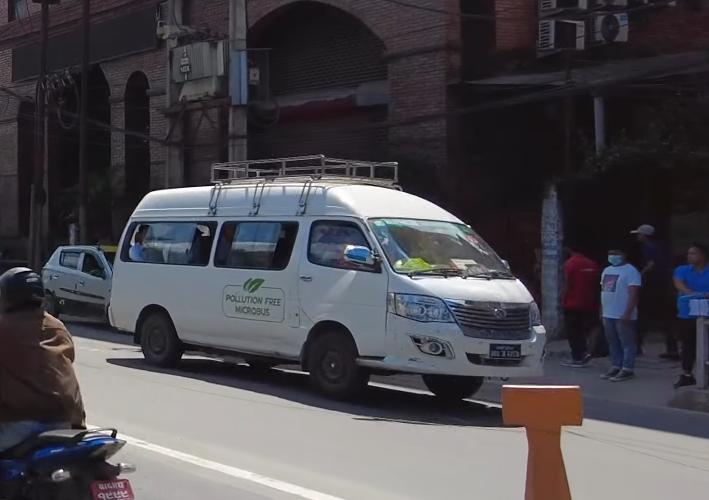bike: (4, 413, 144, 500)
micro_bus: (102, 170, 550, 400)
taxi: (38, 244, 144, 323)
